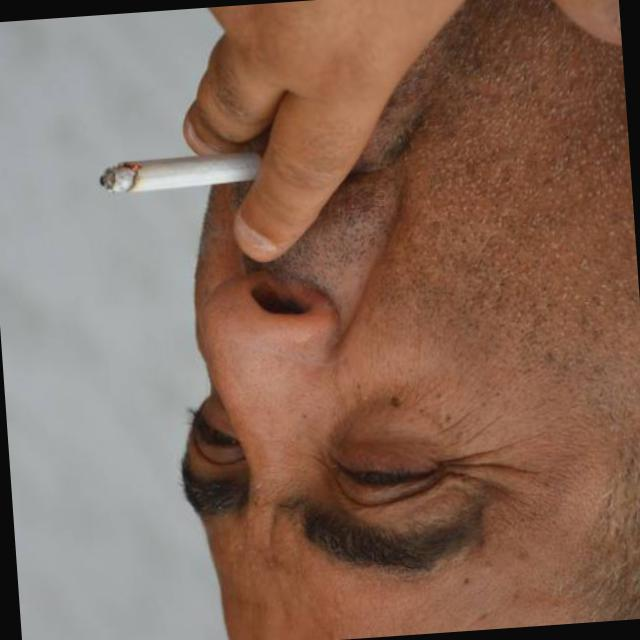smoke: (93, 140, 309, 209)
